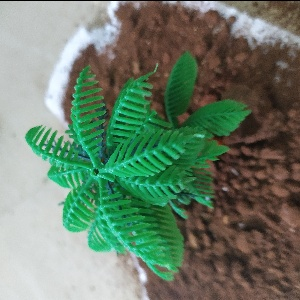plant: (20, 49, 231, 282)
